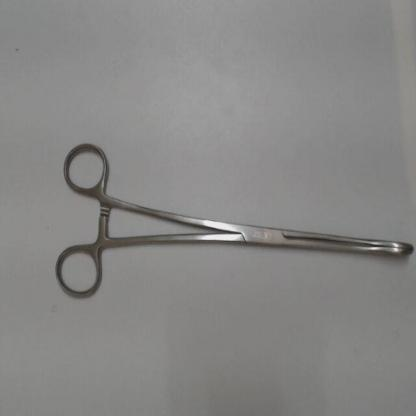Sponge Forceps: (48, 136, 415, 306)
